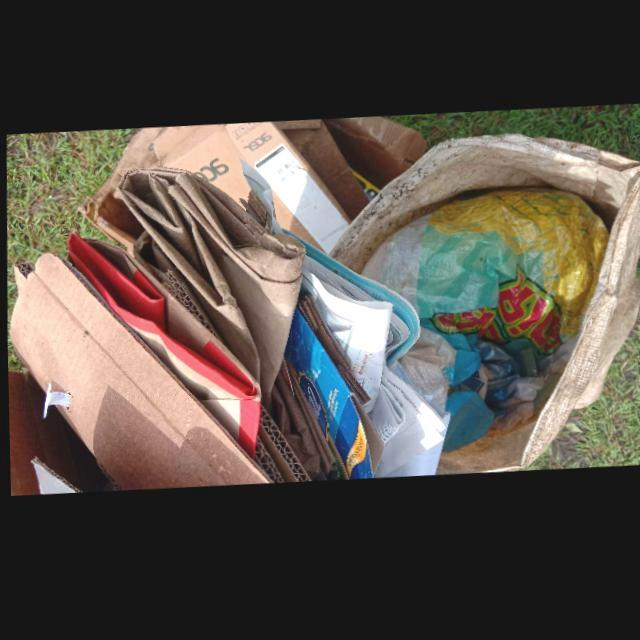cardboard: (8, 253, 310, 491), (103, 120, 427, 258), (66, 234, 259, 462), (284, 299, 381, 483)
paper: (113, 170, 318, 481)
